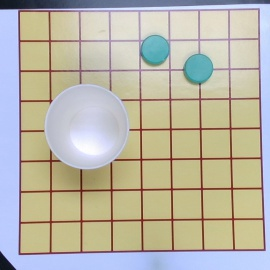cup: (44, 84, 131, 172)
green: (184, 54, 213, 83), (141, 35, 169, 64)
